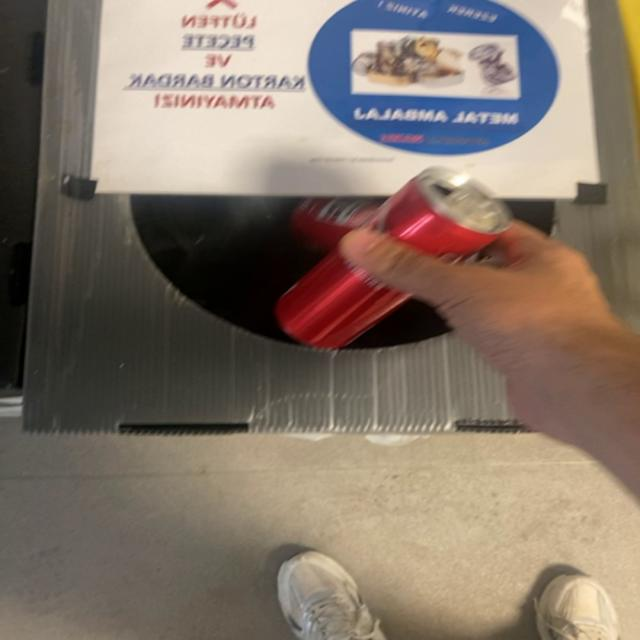bin: (24, 0, 517, 433), (559, 0, 638, 320)
metal: (293, 166, 513, 257), (277, 257, 407, 347)
